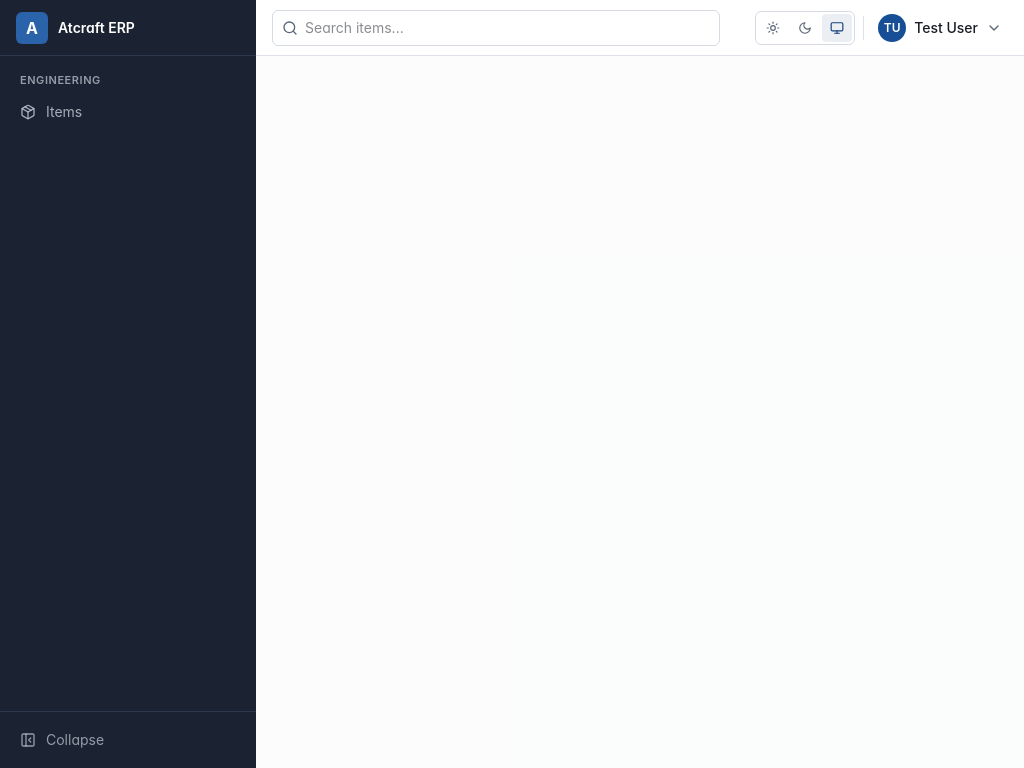
the global search › opens the items list filtered by the term
Type "hinge" into the search field labelled "Search items" at x=496, y=28, box x1=272 y1=10 x2=720 y2=46
Then press Enter
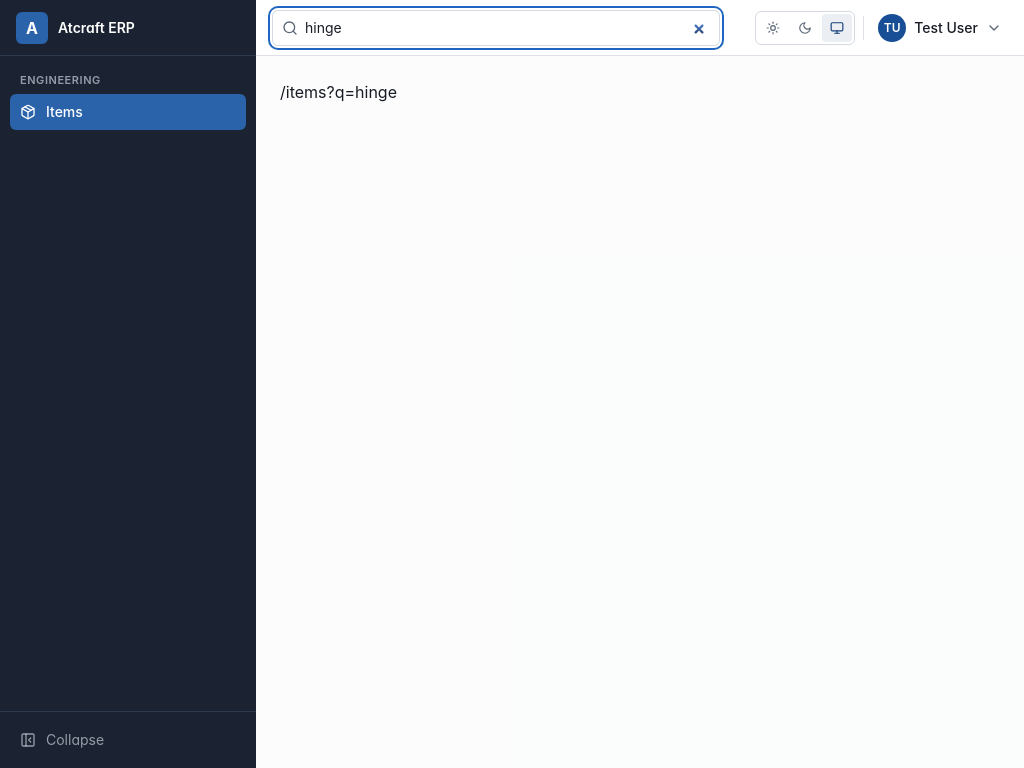
Expected: the text with test id "location" reads "/items?q=hinge", x1=280 y1=82 x2=397 y2=102
